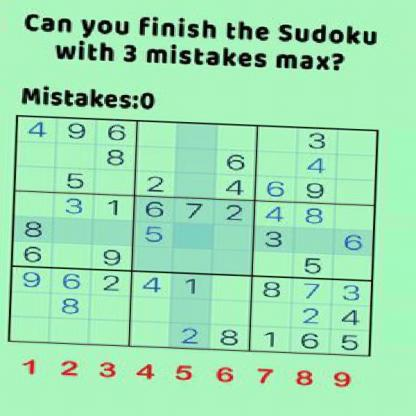sudoku: (5, 111, 381, 363)
